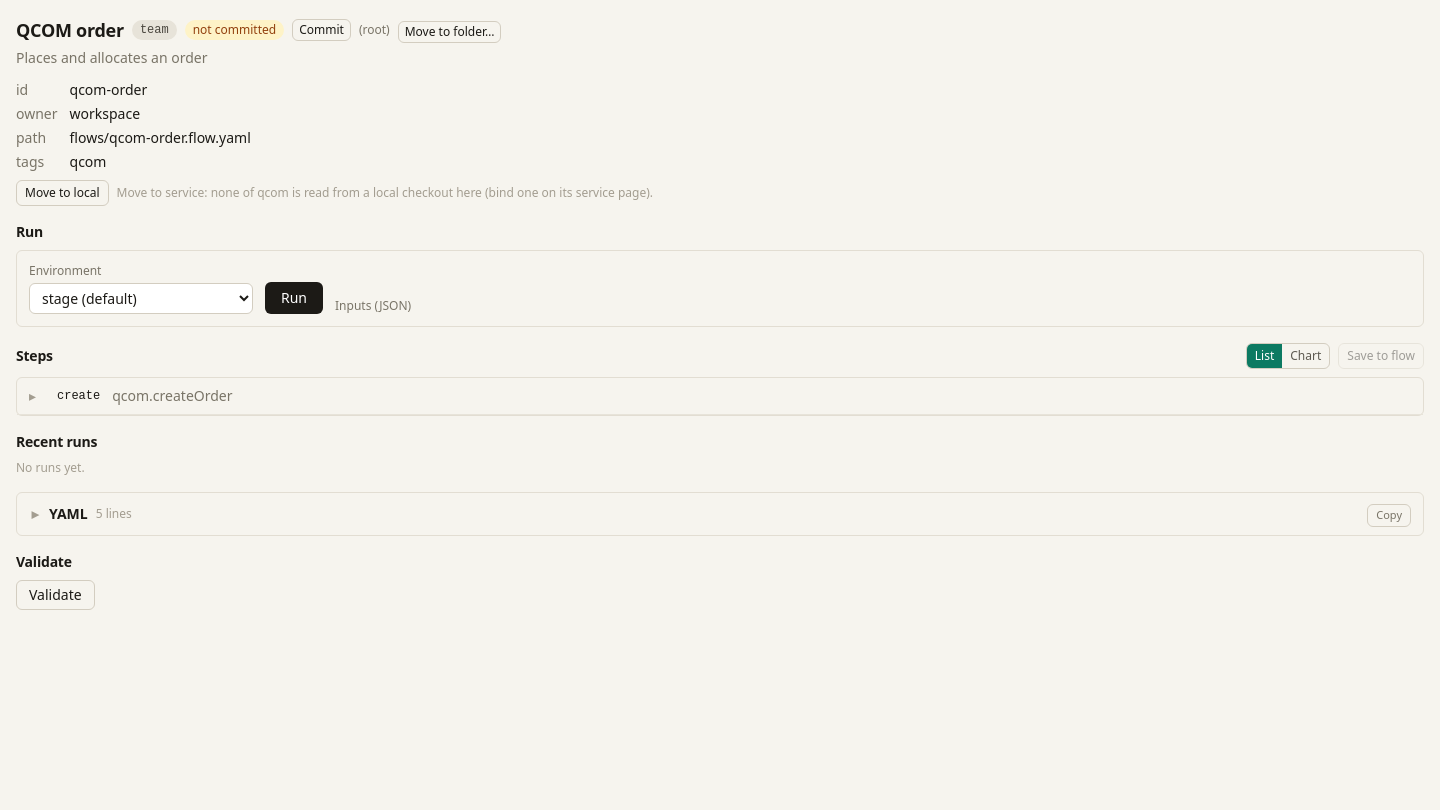
Scenario: FlowDetailPage › shows a header Commit button for untracked/modified, and clicking it commits and refreshes the badge
The width and height of the screenshot is (1440, 810).
Expected: the heading "QCOM order" is shown, [16, 16, 124, 44]
Click the button "Commit": click(322, 30) [292, 19, 351, 41]
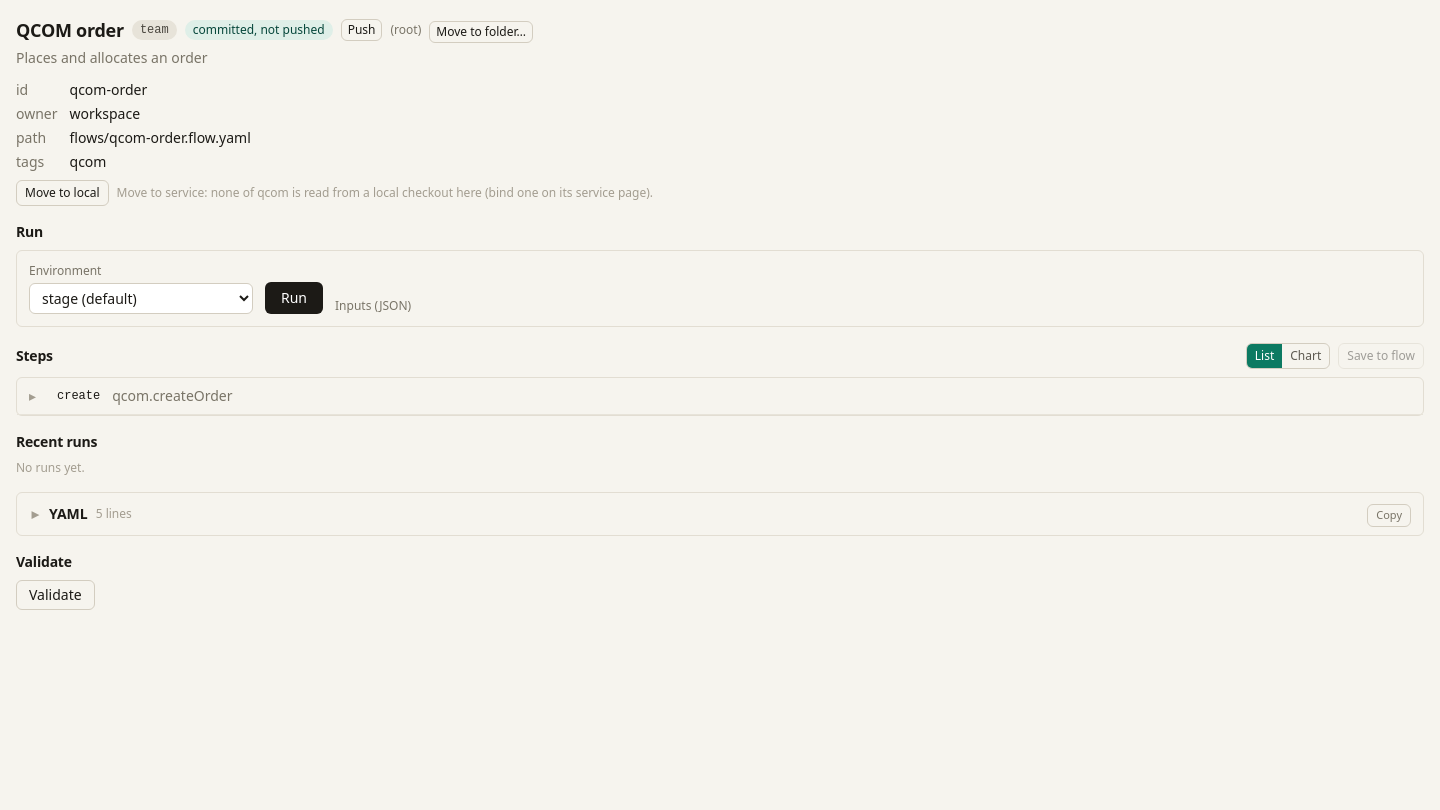
Result: the text "committed, not pushed" is shown at [185, 20, 333, 40]
